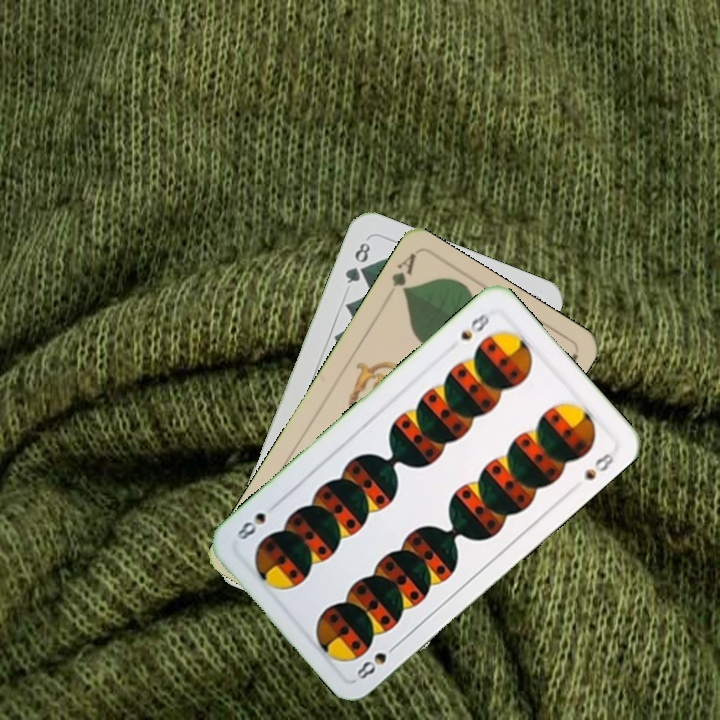G8: (341, 238, 373, 287)
GA: (387, 250, 418, 298)
S8: (352, 636, 403, 682), (456, 308, 492, 343)
